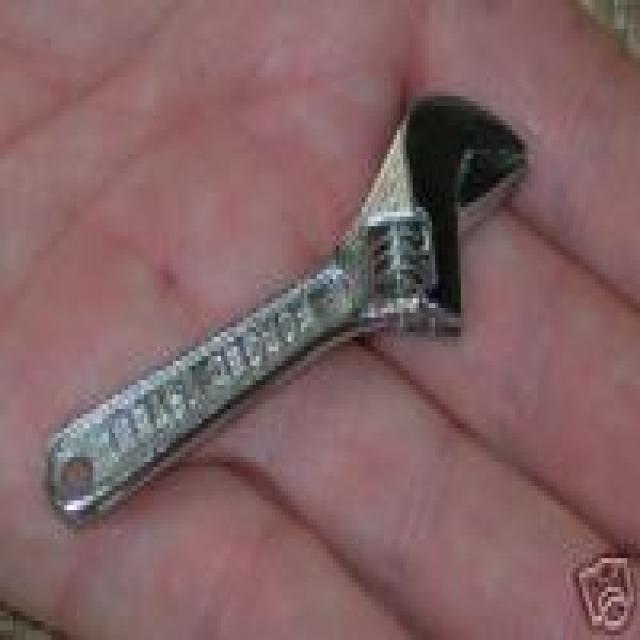wrench: (0, 96, 559, 524)
